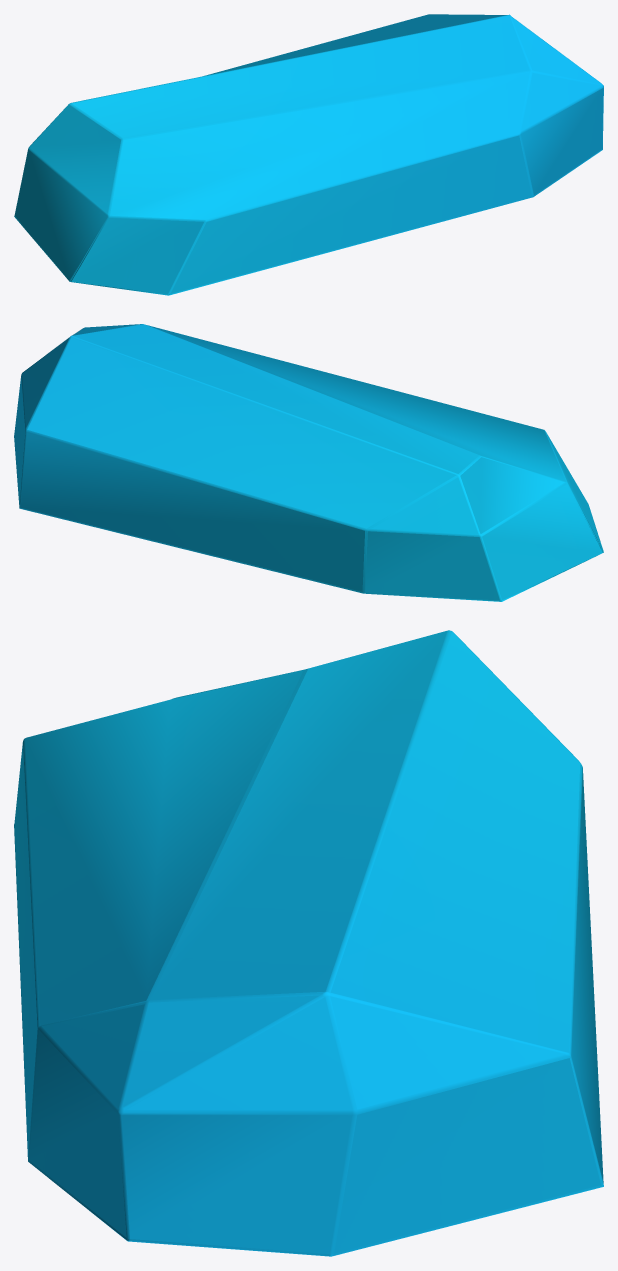
File: stone03.FBX
3 renders of one model, top to bottom at view 1: azimuth 30°, elevation 25°; view 2: azimuth 150°, elevation 25°; view 3: azimuth 270°, elevation 25°, orthographic. The views are drawn at different scales.
Visible parts, largest first — view 1: OBJ_1818; view 2: OBJ_1818; view 3: OBJ_1818.
Boxes of the visible parts, <box> form: OBJ_1818: <box>14,14,603,295</box>; OBJ_1818: <box>14,324,603,601</box>; OBJ_1818: <box>14,630,603,1256</box>.
Bounding box in the file's own units: 317 × 69.42 × 157.
